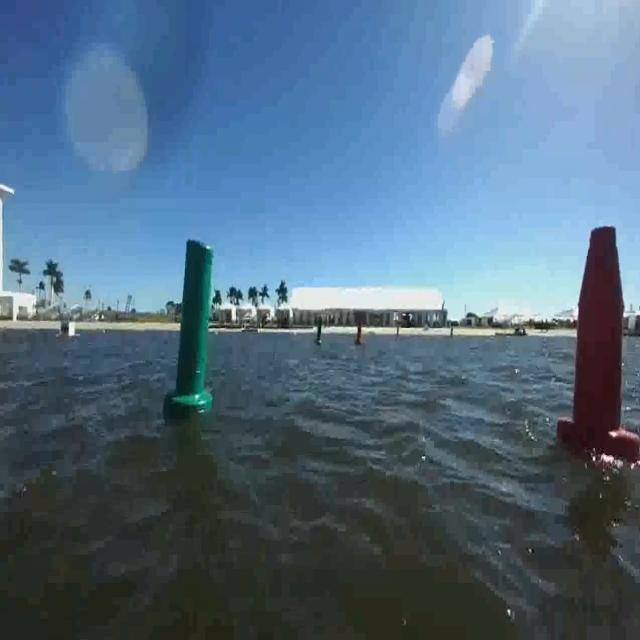green-column-buoy: (172, 237, 218, 414), (315, 318, 325, 346)
red-column-buoy: (556, 223, 636, 465), (356, 323, 364, 348)
